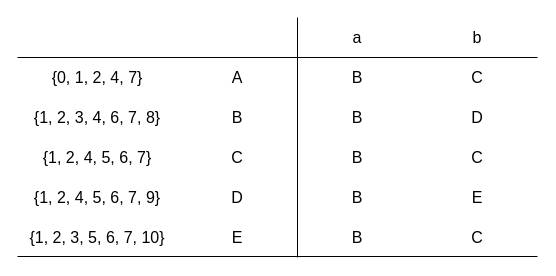
The diagram is 556 pixels wide and 276 high, and some of its shapes have lost their labels. The centre of each missing label's shape, as x and y in pixels:
DFA State: (x=237, y=37)
NFA State: (x=97, y=37)
